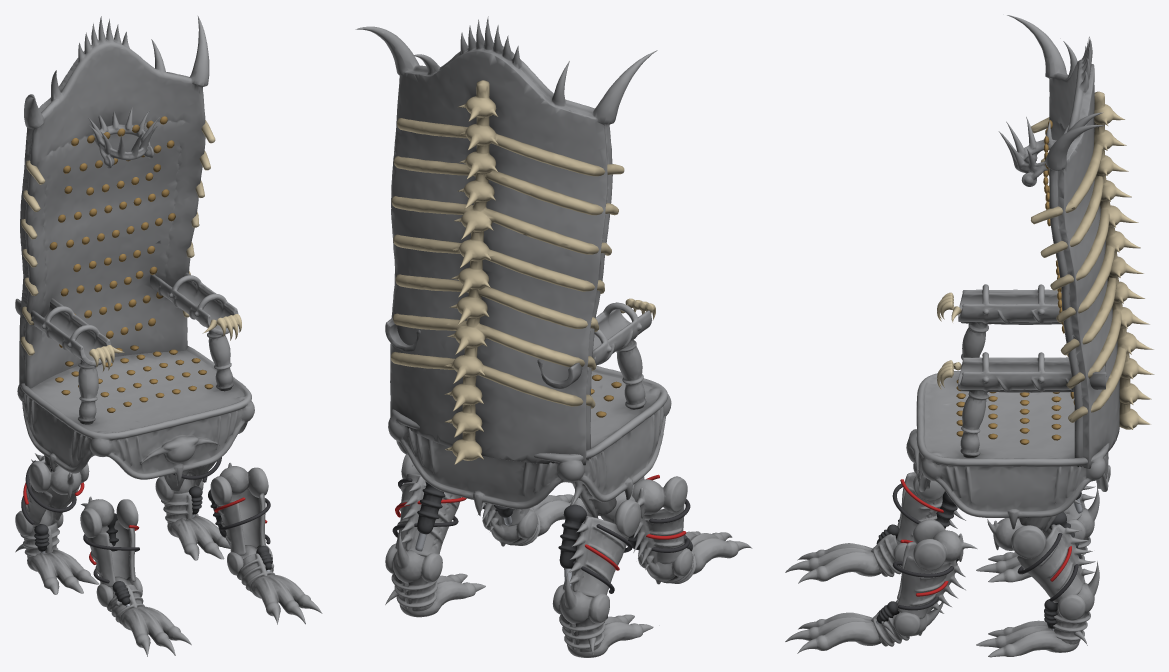
File: chair-parts.glb
The picture shows the model from 3 angles, left to right: view 1: azimuth 30°, elevation 25°; view 2: azimuth 150°, elevation 25°; view 3: azimuth 270°, elevation 25°; orthographic projection. The views are drawn at different scales.
Parts seen in each view (by area): view 1: spine|back, spine|seat, spine|arms, spine|studs, forearm.l|tibia, forearm.r|tibia, hand.r|toes, hand.l|toes, skull|crown, foot.r|toes, spine|bone, foot.l|toes (+15 smaller); view 2: spine|back, spine|bone, spine|seat, spine|arms, shin.r|tibia, shin.l|tibia, forearm.r|tibia, foot.l|hock, forearm.r|knee, foot.r|hock, foot.l|toes, foot.r|toes (+11 smaller); view 3: spine|seat, spine|back, spine|bone, spine|arms, shin.l|tibia, hand.l|toes, forearm.l|tibia, hand.r|toes, foot.l|toes, forearm.l|knee, spine|studs, shin.l|knee (+10 smaller).
Boxes of the visible parts, bbox=[...] form: spine|back: bbox=[19, 16, 209, 392]; spine|seat: bbox=[17, 346, 254, 485]; spine|arms: bbox=[15, 272, 238, 424]; spine|studs: bbox=[49, 116, 213, 412]; forearm.l|tibia: bbox=[216, 488, 265, 555]; forearm.r|tibia: bbox=[87, 520, 135, 587]; hand.r|toes: bbox=[109, 600, 191, 656]; hand.l|toes: bbox=[250, 563, 322, 624]; skull|crown: bbox=[88, 107, 159, 168]; foot.r|toes: bbox=[15, 544, 99, 594]; spine|bone: bbox=[20, 120, 215, 355]; foot.l|toes: bbox=[167, 515, 230, 560]; spine|back: bbox=[355, 16, 657, 465]; spine|bone: bbox=[390, 80, 624, 464]; spine|seat: bbox=[388, 365, 671, 516]; spine|arms: bbox=[385, 302, 651, 409]; shin.r|tibia: bbox=[563, 516, 628, 597]; shin.l|tibia: bbox=[395, 473, 461, 556]; forearm.r|tibia: bbox=[633, 505, 684, 569]; foot.l|hock: bbox=[385, 530, 442, 583]; forearm.r|knee: bbox=[632, 476, 687, 518]; foot.r|hock: bbox=[552, 572, 609, 624]; foot.l|toes: bbox=[385, 573, 485, 617]; foot.r|toes: bbox=[567, 614, 653, 657]; spine|seat: bbox=[906, 371, 1110, 529]; spine|back: bbox=[1007, 15, 1119, 468]; spine|bone: bbox=[1030, 91, 1154, 429]; spine|arms: bbox=[958, 284, 1106, 457]; shin.l|tibia: bbox=[1017, 524, 1095, 602]; hand.l|toes: bbox=[785, 612, 894, 653]; forearm.l|tibia: bbox=[897, 541, 965, 618]; hand.r|toes: bbox=[785, 543, 880, 583]; foot.l|toes: bbox=[976, 620, 1087, 657]; forearm.l|knee: bbox=[913, 519, 977, 570]; spine|studs: bbox=[956, 120, 1074, 444]; shin.l|knee: bbox=[987, 518, 1046, 558].
Bounding box in the file's own units: 0.7084 × 1.7 × 0.9983.
